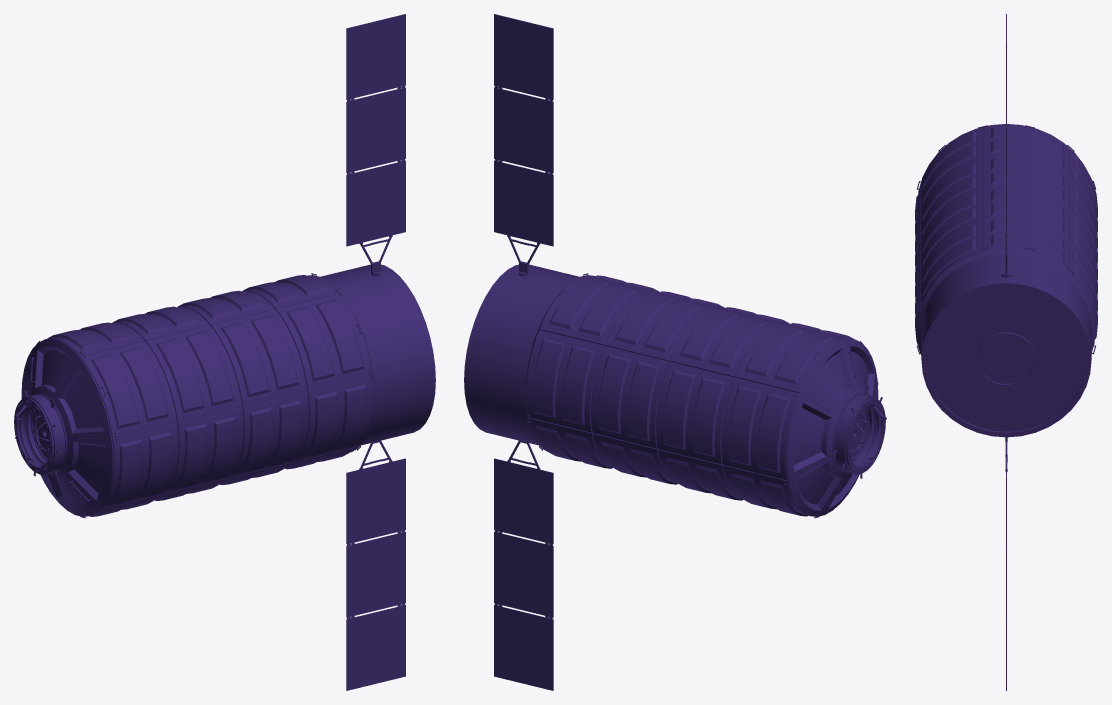
Rendered from Logistics_Vehicle.FBX.
3 views of the same model, side by side, from view 1: azimuth 30°, elevation 25°; view 2: azimuth 150°, elevation 25°; view 3: azimuth 270°, elevation 25° (orthographic). The views are drawn at different scales.
Parts seen in each view (by area): view 1: Logistics_Vehicle_Main, Logistics_Vehicle_SolarMainHinge01_Panel03, Logistics_Vehicle_SolarMainHinge01_Panel02, Logistics_Vehicle_SolarMainHinge02_Panel02, Logistics_Vehicle_SolarMainHinge02_Panel03, Logistics_Vehicle_SolarMainHinge02_Panel01, Logistics_Vehicle_SolarMainHinge01_Panel01, Logistics_Vehicle_Connector03_Main03, Logistics_Vehicle_Connector03_Main03_OuterRing01, Logistics_Vehicle_Connector03_Main03_Outer01; view 2: Logistics_Vehicle_Main, Logistics_Vehicle_SolarMainHinge01_Panel03, Logistics_Vehicle_SolarMainHinge01_Panel02, Logistics_Vehicle_SolarMainHinge02_Panel02, Logistics_Vehicle_SolarMainHinge02_Panel03, Logistics_Vehicle_SolarMainHinge01_Panel01, Logistics_Vehicle_SolarMainHinge02_Panel01, Logistics_Vehicle_Connector03_Main03, Logistics_Vehicle_Connector03_Main03_OuterRing01, Logistics_Vehicle_Connector03_Main03_Outer01; view 3: Logistics_Vehicle_Main.
Part boxes in pixels (<box>): Logistics_Vehicle_Main: <box>21,264,435,516</box>; Logistics_Vehicle_SolarMainHinge01_Panel03: <box>346,14,405,99</box>; Logistics_Vehicle_SolarMainHinge01_Panel02: <box>346,87,405,172</box>; Logistics_Vehicle_SolarMainHinge02_Panel02: <box>346,531,405,617</box>; Logistics_Vehicle_SolarMainHinge02_Panel03: <box>346,605,405,690</box>; Logistics_Vehicle_SolarMainHinge02_Panel01: <box>346,458,405,544</box>; Logistics_Vehicle_SolarMainHinge01_Panel01: <box>346,160,405,246</box>; Logistics_Vehicle_Connector03_Main03: <box>14,404,49,467</box>; Logistics_Vehicle_Connector03_Main03_OuterRing01: <box>15,390,64,481</box>; Logistics_Vehicle_Connector03_Main03_Outer01: <box>14,398,65,473</box>; Logistics_Vehicle_Main: <box>464,264,878,516</box>; Logistics_Vehicle_SolarMainHinge01_Panel03: <box>494,14,553,99</box>; Logistics_Vehicle_SolarMainHinge01_Panel02: <box>494,87,553,172</box>; Logistics_Vehicle_SolarMainHinge02_Panel02: <box>494,531,553,617</box>; Logistics_Vehicle_SolarMainHinge02_Panel03: <box>494,605,553,690</box>; Logistics_Vehicle_SolarMainHinge01_Panel01: <box>494,160,553,246</box>; Logistics_Vehicle_SolarMainHinge02_Panel01: <box>494,458,553,544</box>; Logistics_Vehicle_Connector03_Main03: <box>850,404,885,467</box>; Logistics_Vehicle_Connector03_Main03_OuterRing01: <box>832,385,886,478</box>; Logistics_Vehicle_Connector03_Main03_Outer01: <box>834,398,885,473</box>; Logistics_Vehicle_Main: <box>915,124,1097,437</box>.
Size of the model in its own units: 859 by 1430 by 365.
